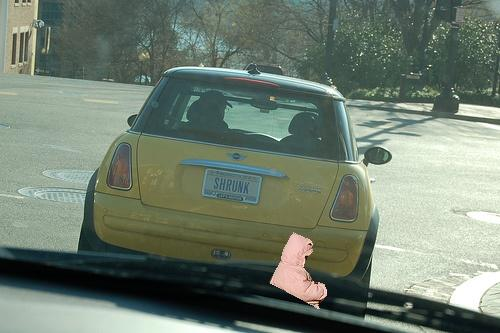tampered: (270, 233, 327, 309)
